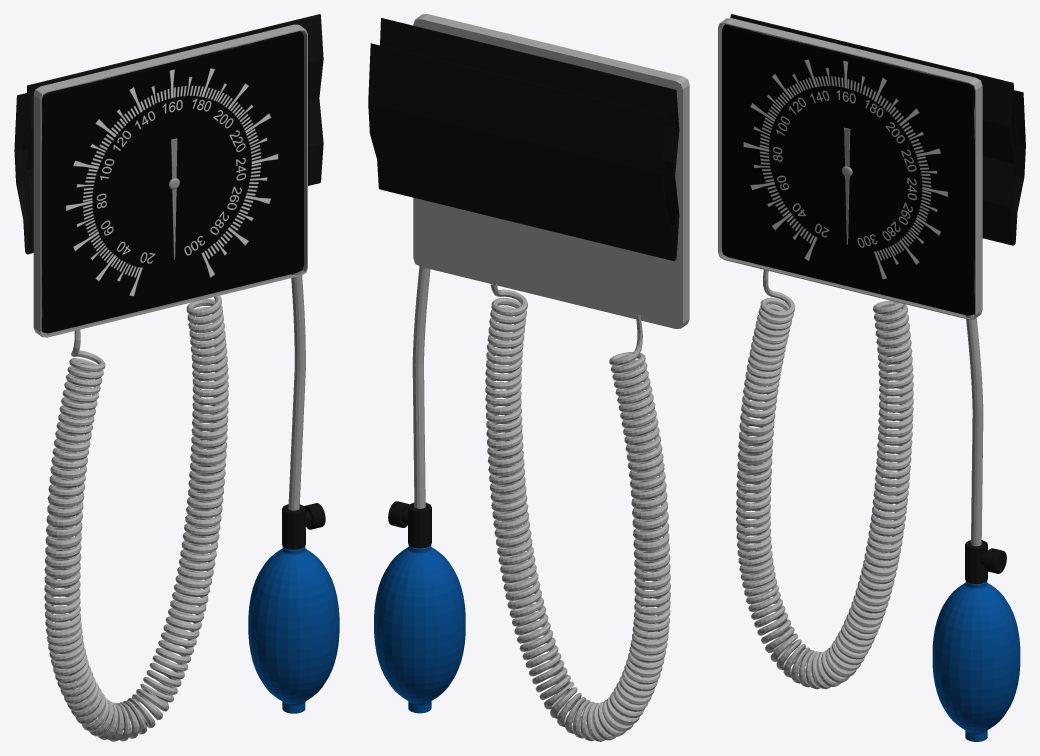
File: Blood Pressure.fbx
The picture shows the model from 3 angles, left to right: view 1: azimuth 30°, elevation 25°; view 2: azimuth 150°, elevation 25°; view 3: azimuth 330°, elevation 25°; orthographic projection. The views are drawn at different scales.
Parts seen in each view (by area): view 1: Blood pressure; view 2: Blood pressure; view 3: Blood pressure.
Boxes of the visible parts, bbox=[...] form: Blood pressure: bbox=[14, 14, 339, 741]; Blood pressure: bbox=[368, 14, 689, 741]; Blood pressure: bbox=[718, 14, 1025, 741].
Size of the model in its own units: 0.1851 by 0.4035 by 0.0487.
